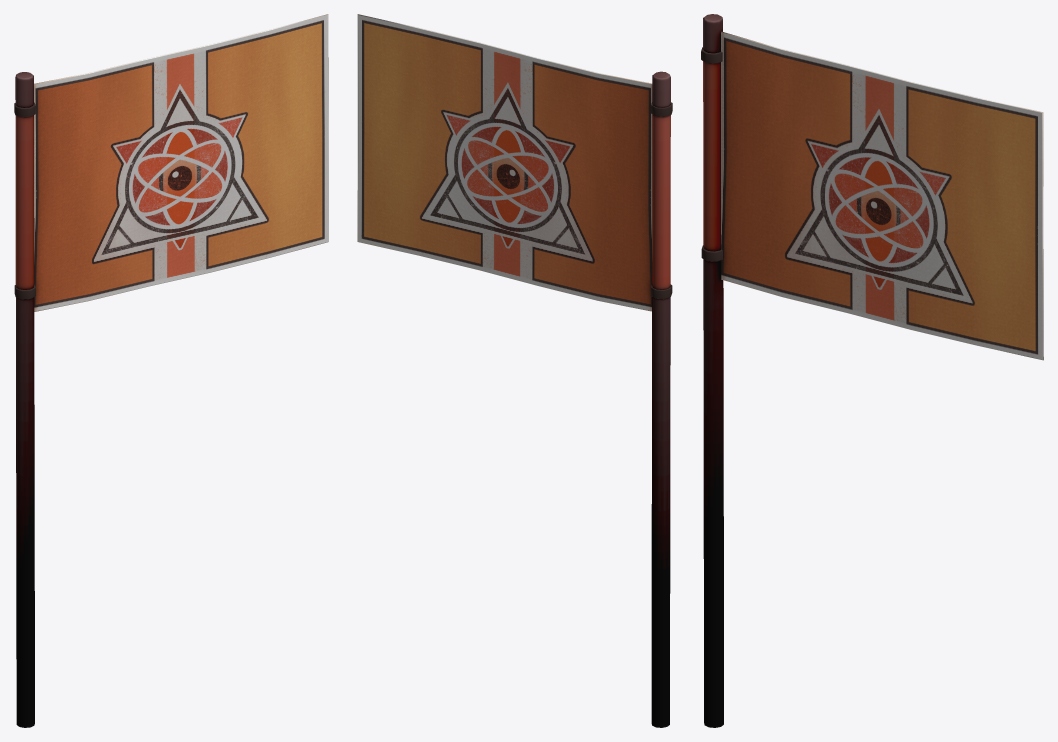
The model's file is CaptureFlagSpawnPointTeam2.glb.
The picture shows the model from 3 angles, left to right: view 1: azimuth 30°, elevation 25°; view 2: azimuth 150°, elevation 25°; view 3: azimuth 330°, elevation 25°; orthographic projection. The views are drawn at different scales.
Parts seen in each view (by area): view 1: Flag; view 2: Flag; view 3: Flag.
Part boxes in pixels (left/top/right/bottom): Flag: left=14, top=14, right=328, bottom=727; Flag: left=357, top=14, right=672, bottom=727; Flag: left=701, top=14, right=1043, bottom=727.
Size of the model in its own units: 0.5558 by 1.1 by 0.0343.
Materials: 1 (1 with a texture image).
